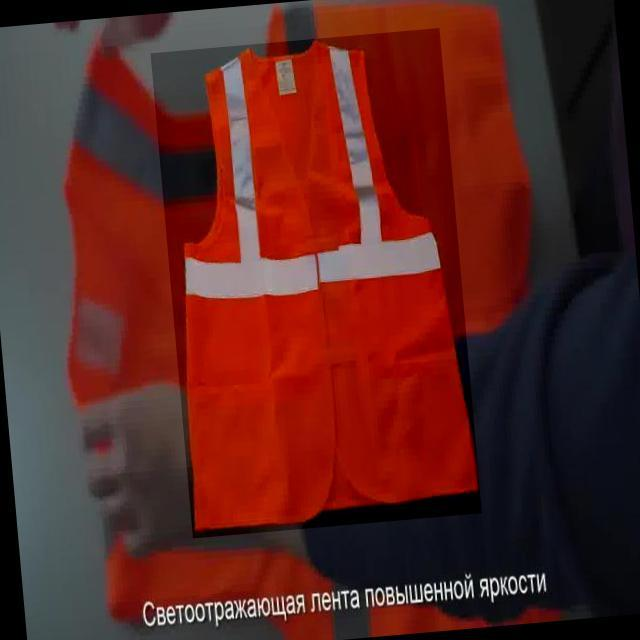Safety Vest: (150, 28, 481, 538)
bare-arms: (75, 383, 204, 565)
